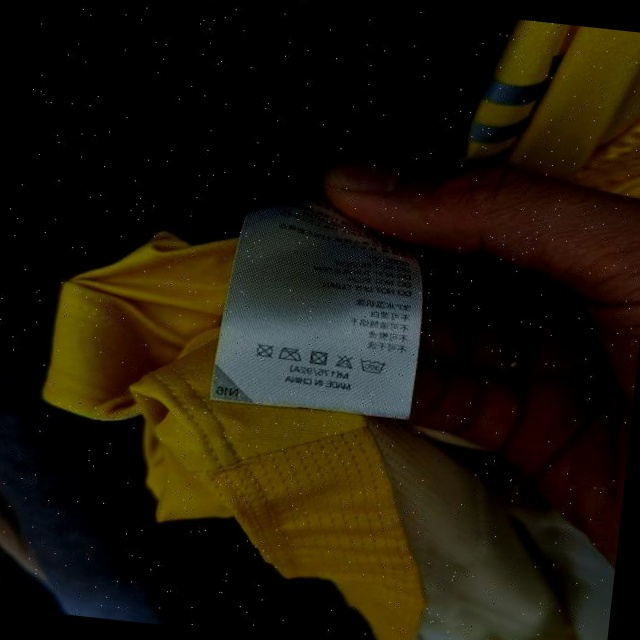30C: (357, 355, 387, 377)
DN_bleach: (332, 353, 354, 370)
DN_dry_clean: (253, 341, 275, 360)
DN_iron: (277, 344, 305, 364)
DN_tumble_dry: (307, 349, 329, 368)
